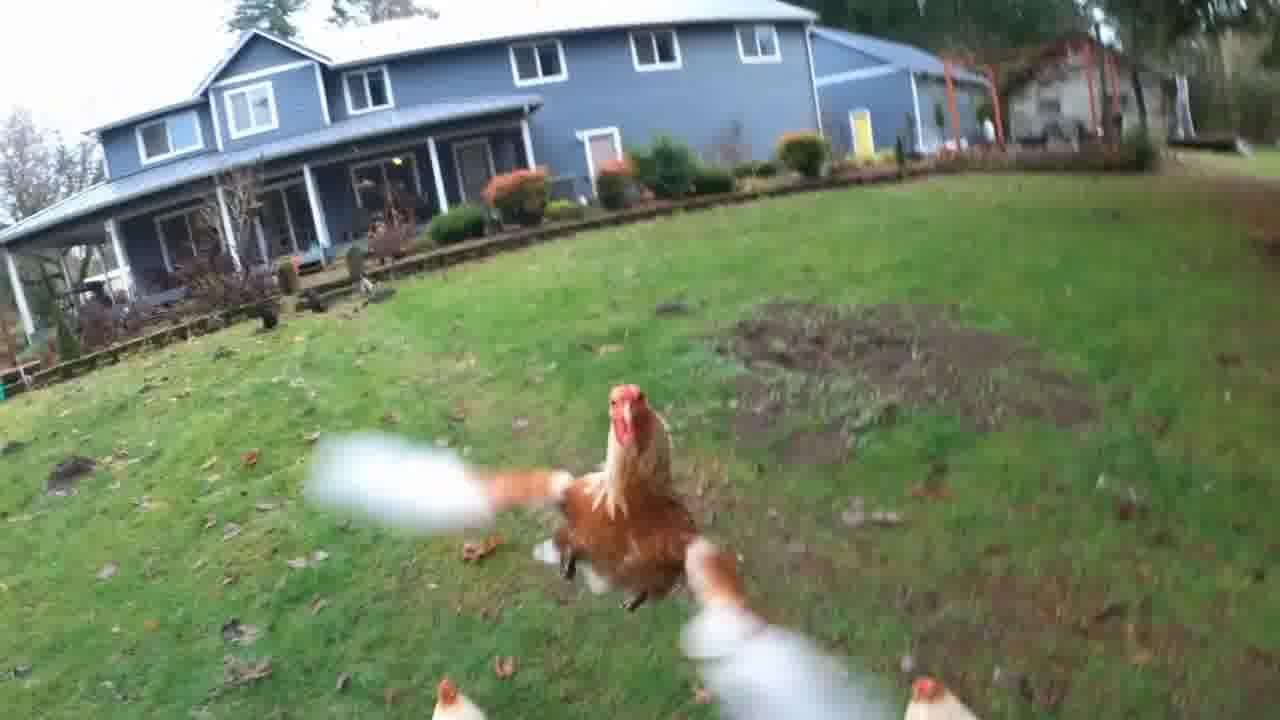Normal: (500, 380, 710, 592)
